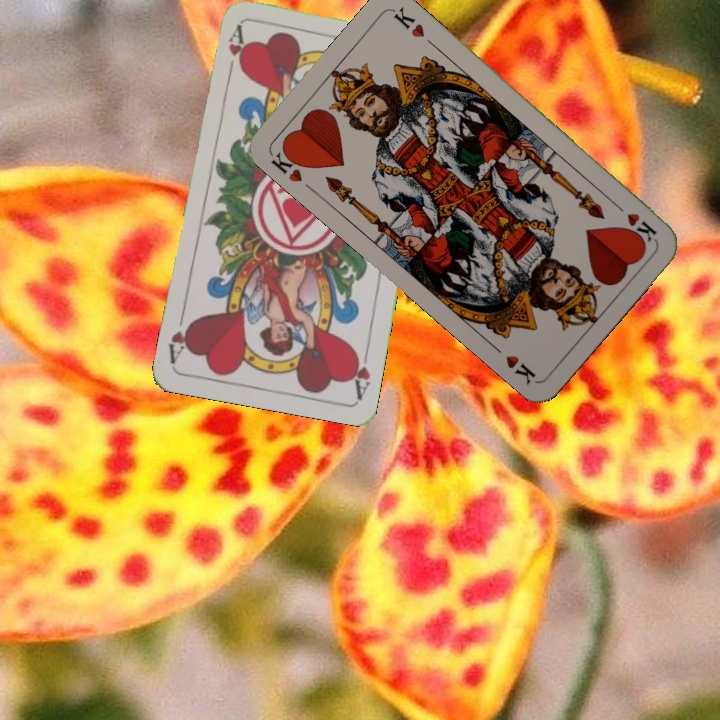HA: (346, 341, 373, 400), (223, 23, 246, 82)
HK: (609, 198, 659, 245), (267, 142, 310, 185)
